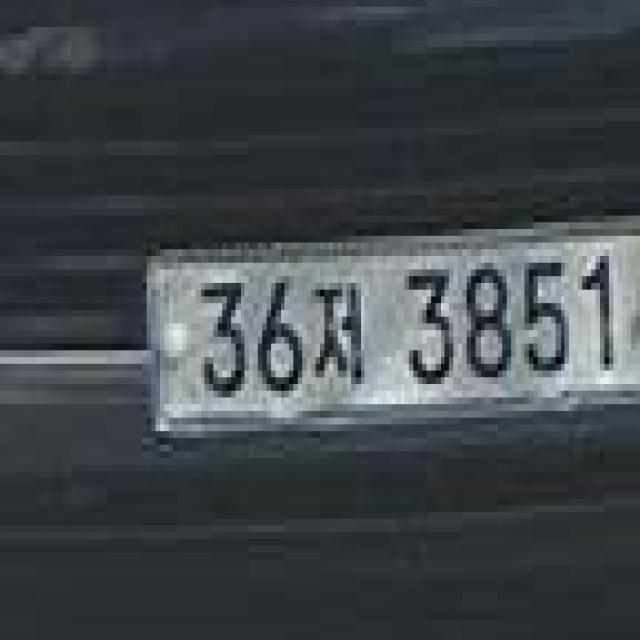1: (582, 250, 614, 378)
3: (195, 276, 249, 398), (400, 263, 453, 384)
5: (520, 256, 573, 377)
6: (253, 283, 307, 397)
8: (462, 263, 511, 384)
jeo: (306, 283, 364, 391)
license_plate: (146, 215, 640, 444)
